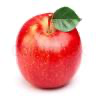Apple leaf: (52, 5, 83, 34)
